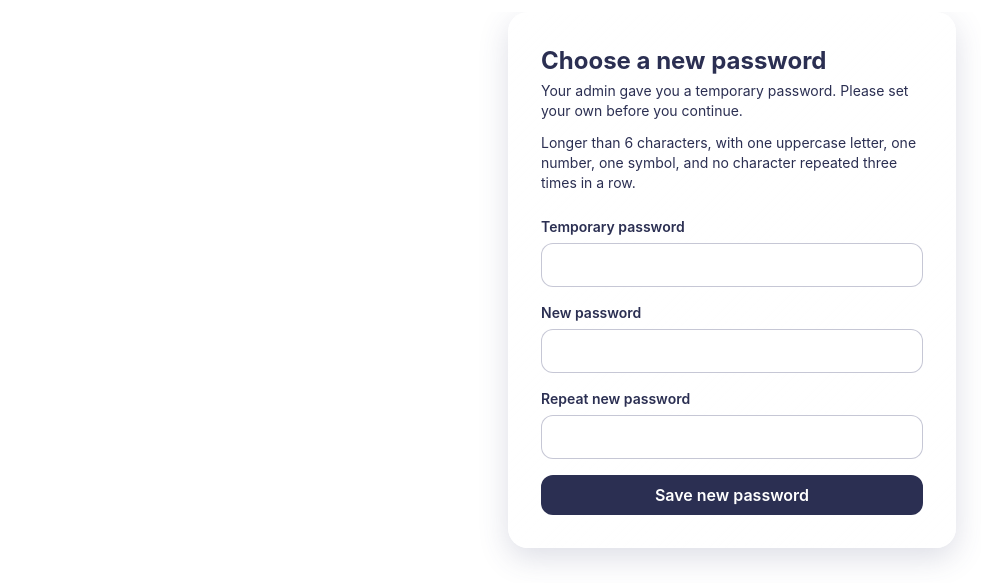
Scenario: ChangePasswordPage › sends the new password and opens the courses page after saving
Type "Temp#1abc" into the password field labelled "Temporary password" at (732, 265), box [541,243,923,287]
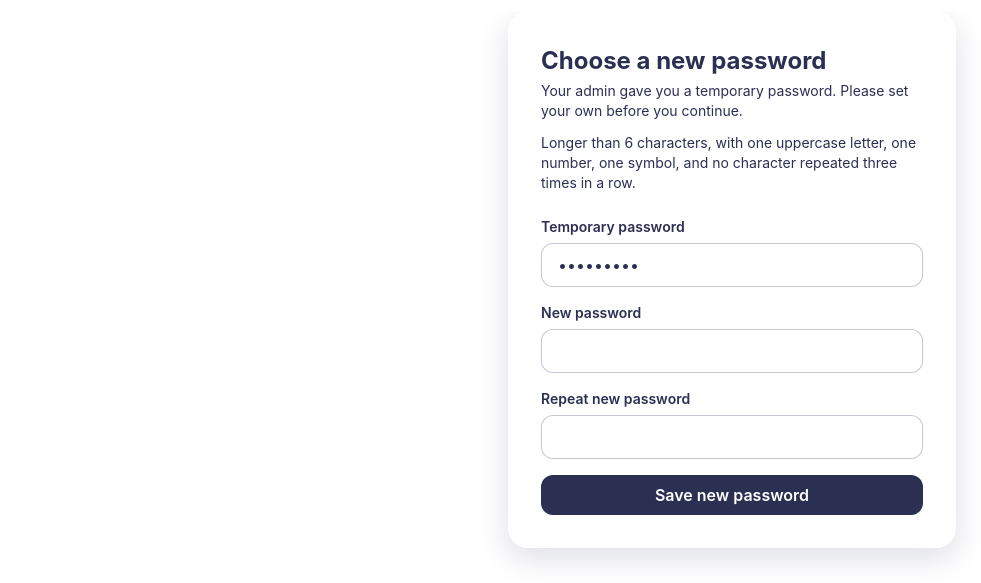
Type "NewPass#2" into the password field labelled "New password" at (732, 351), box [541,329,923,373]
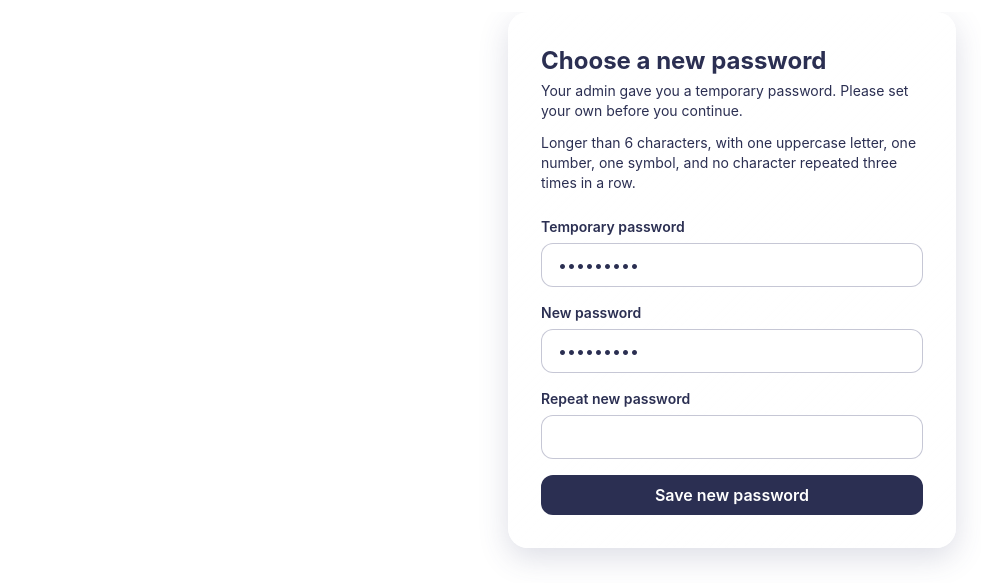
Type "NewPass#2" into the password field labelled "Repeat new password" at (732, 437), box [541,415,923,459]
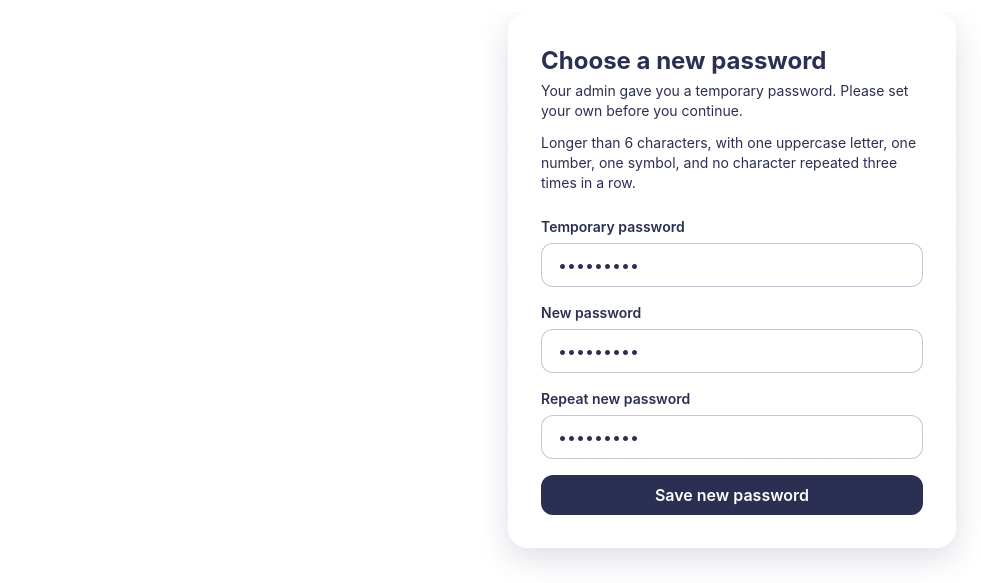
Click the button "Save new password" at (732, 495), box [541,475,923,515]
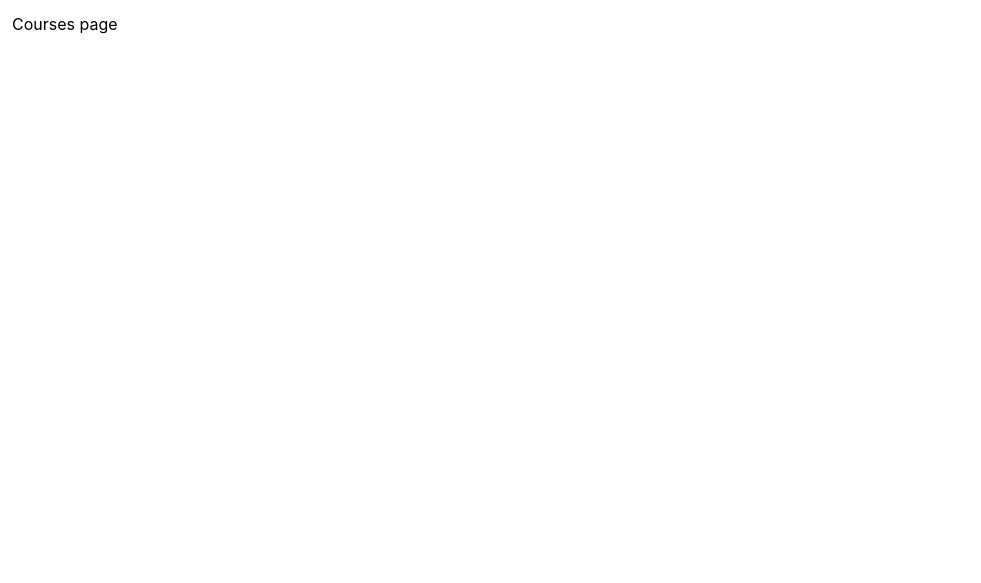
Now the text "Courses page" is shown, box [12,14,118,34]
